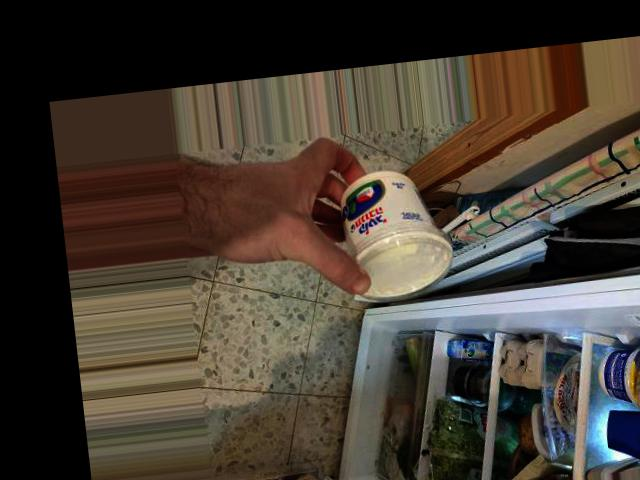cotage: (326, 164, 456, 276)
